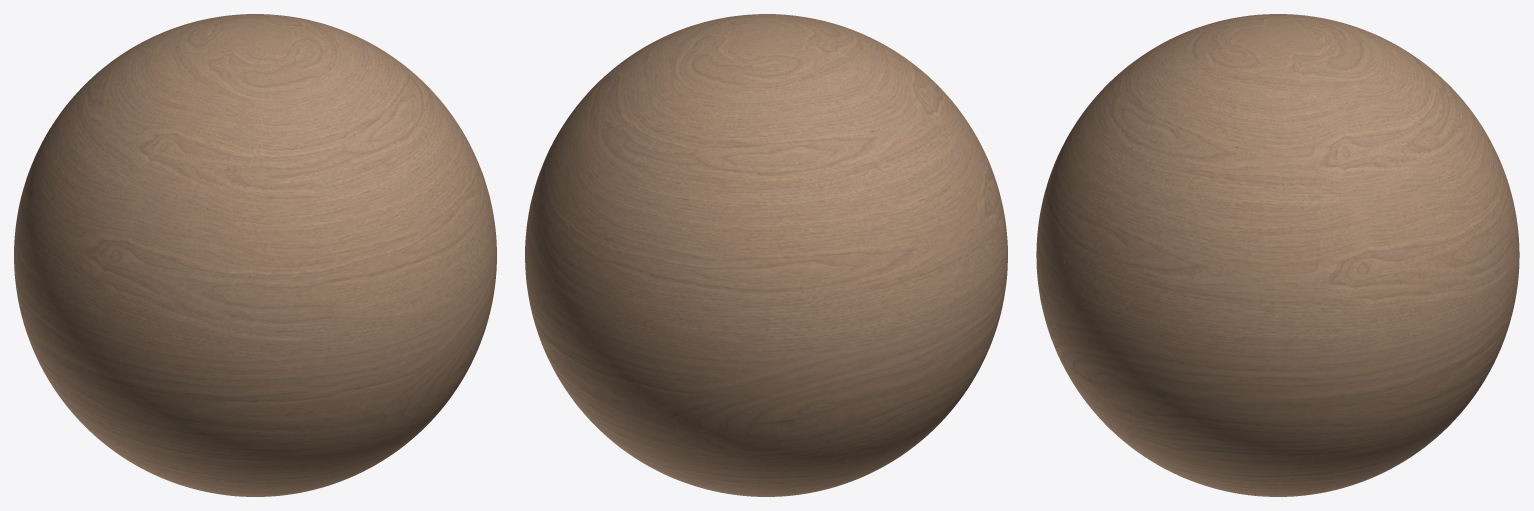
Rendered from oak_veneer_05_2k.gltf.
The picture shows the model from 3 angles, left to right: view 1: azimuth 30°, elevation 25°; view 2: azimuth 150°, elevation 25°; view 3: azimuth 270°, elevation 25°; orthographic projection.
Visible parts, largest first — view 1: sphere_gltf; view 2: sphere_gltf; view 3: sphere_gltf.
Part boxes in pixels (<box>): sphere_gltf: <box>14,14,496,496</box>; sphere_gltf: <box>525,14,1007,496</box>; sphere_gltf: <box>1036,14,1519,496</box>.
Size of the model in its own units: 1 by 1 by 1.
Materials: 1 (1 with a texture image).
